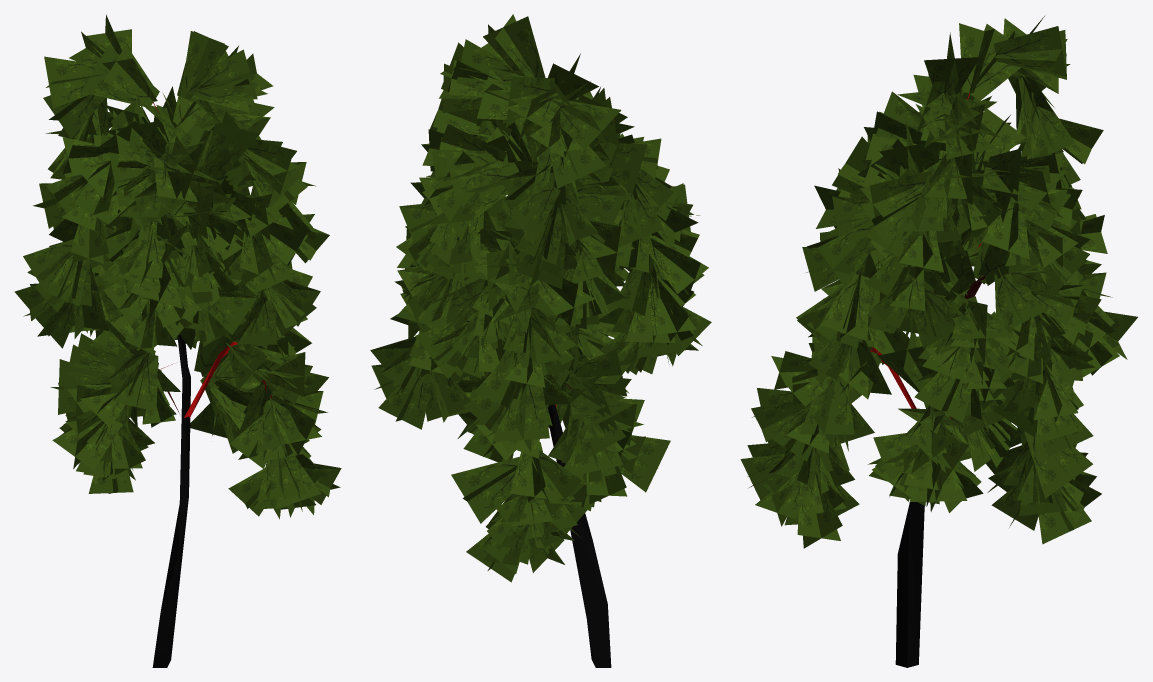
The model's file is birch 2 lod1.FBX.
3 renders of one model, left to right at view 1: azimuth 30°, elevation 25°; view 2: azimuth 150°, elevation 25°; view 3: azimuth 270°, elevation 25°, orthographic. The views are drawn at different scales.
Parts seen in each view (by area): view 1: birch2_LOD1; view 2: birch2_LOD1; view 3: birch2_LOD1.
Part boxes in pixels (x1=…): birch2_LOD1: x1=14, y1=14, x2=341, y2=667; birch2_LOD1: x1=370, y1=14, x2=711, y2=667; birch2_LOD1: x1=740, y1=16, x2=1137, y2=667.
Size of the model in its own units: 52464 by 111938 by 61177.
